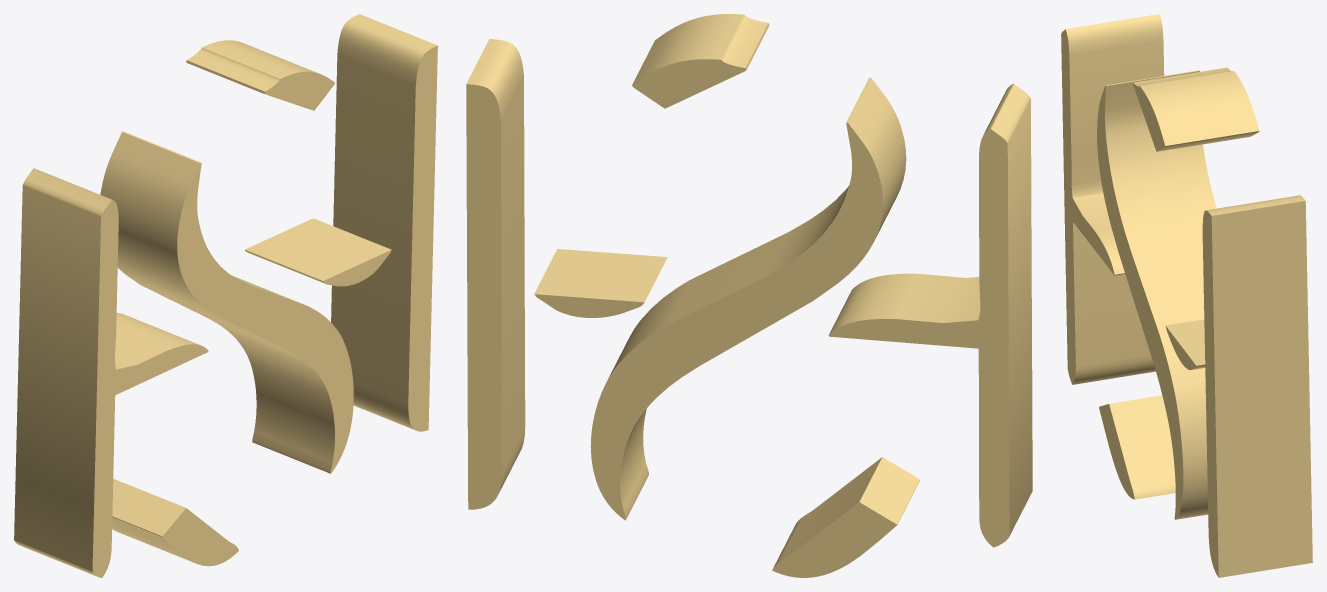
Rendered from appIcon01d.glb.
3 renders of one model, left to right at view 1: azimuth 30°, elevation 25°; view 2: azimuth 150°, elevation 25°; view 3: azimuth 270°, elevation 25°, orthographic. The views are drawn at different scales.
Visible parts, largest first — view 1: Layer 1; view 2: Layer 1; view 3: Layer 1.
Part boxes in pixels (box(x1,y1,x2,y2)): Layer 1: box(14, 14, 437, 577); Layer 1: box(466, 14, 1032, 577); Layer 1: box(1061, 14, 1312, 577).
Size of the model in its own units: 2.91 by 2.88 by 1.49.
